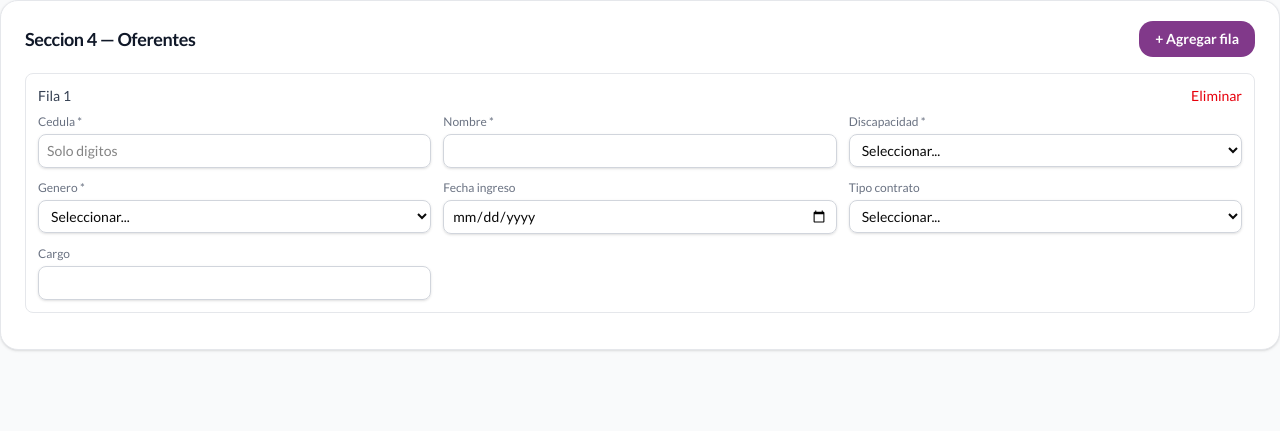
it: Seccion4 catalog readonly state › permite corregir genero no canonico de BD y muestra warning visible
Type "123456" into the field with placeholder "Solo digitos" at (235, 151), box x1=38 y1=134 x2=431 y2=168
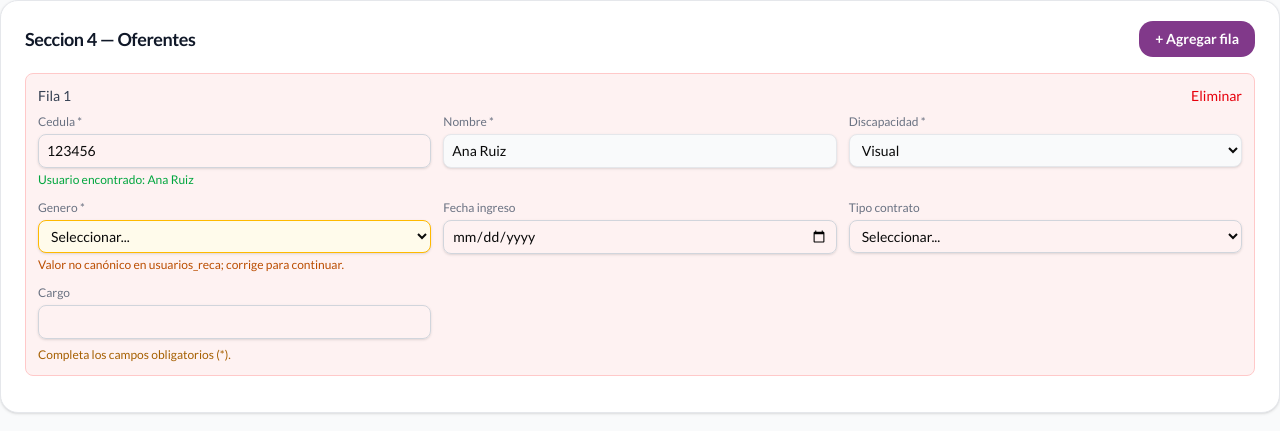
Expected: the dropdown named "Valor no canónico en usuarios_reca; corrige para continuar." is enabled, x1=38 y1=220 x2=431 y2=253
Expected: the text "Usuario encontrado: Ana Ruiz" is shown, x1=38 y1=172 x2=194 y2=187
Expected: the text "Valor no canónico en usuarios_reca; corrige para continuar." is shown, x1=38 y1=257 x2=344 y2=272
